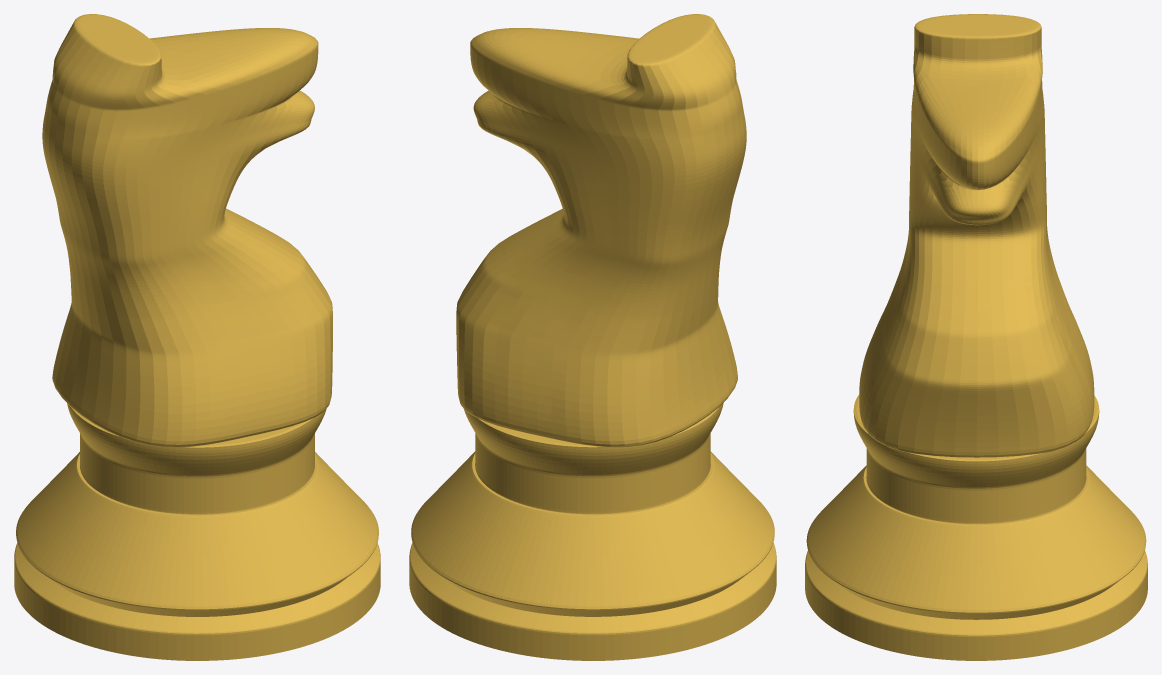
Rendered from gold_knight.fbx.
The picture shows the model from 3 angles, left to right: view 1: azimuth 30°, elevation 25°; view 2: azimuth 150°, elevation 25°; view 3: azimuth 270°, elevation 25°; orthographic projection. The views are drawn at different scales.
Visible parts, largest first — view 1: Cube.001; view 2: Cube.001; view 3: Cube.001.
Part boxes in pixels (<box>): Cube.001: <box>14,14,380,660</box>; Cube.001: <box>409,14,776,660</box>; Cube.001: <box>805,14,1147,660</box>.
Bounding box in the file's own units: 4.45 × 7.57 × 4.45.
